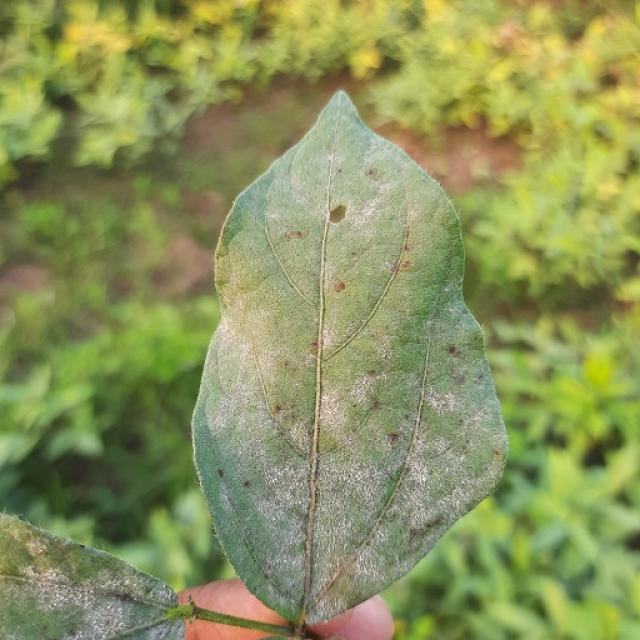Blackgram: (192, 92, 505, 622)
Powdery_Mildew: (315, 469, 479, 618), (264, 331, 408, 461), (226, 269, 315, 438), (226, 443, 314, 572), (408, 404, 491, 523), (189, 379, 230, 554), (307, 441, 382, 529), (334, 362, 405, 438), (389, 239, 450, 326), (301, 568, 379, 629), (204, 381, 257, 467), (15, 576, 95, 631), (420, 364, 482, 429), (202, 499, 241, 588), (318, 292, 372, 354), (313, 381, 366, 444), (256, 448, 311, 506), (356, 511, 411, 569), (94, 559, 164, 603), (261, 466, 309, 530), (12, 559, 72, 603), (341, 185, 389, 239), (404, 452, 445, 503), (71, 607, 134, 640), (445, 463, 485, 514), (330, 455, 375, 499), (17, 527, 56, 565), (5, 610, 50, 640), (272, 404, 304, 433), (217, 484, 234, 516), (442, 280, 457, 294), (61, 633, 89, 640), (452, 372, 466, 386), (264, 568, 273, 578), (321, 618, 330, 626), (345, 327, 352, 336)
